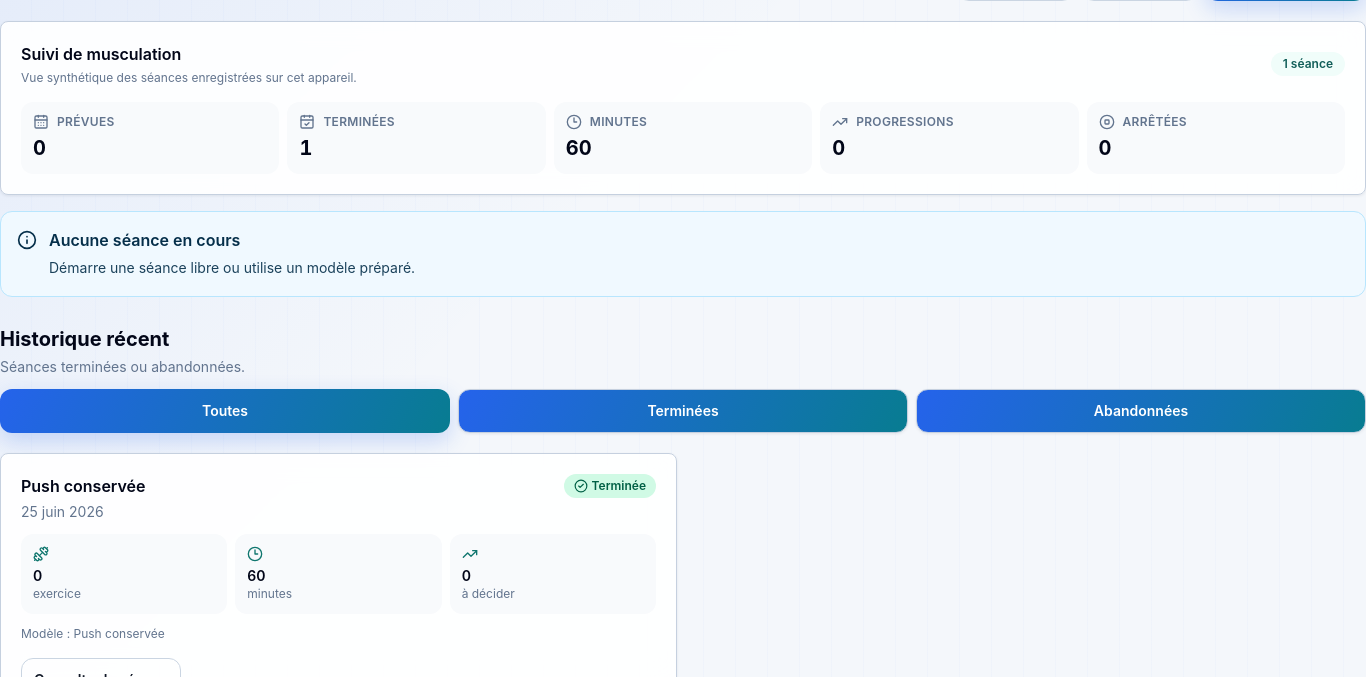
Scenario: WorkoutSessionsPage › réinitialise uniquement le filtre lorsque l’historique filtré est vide
Expected: the heading "Push conservée" is shown, [21,474,146,498]
Click the button "Abandonnées" at (1141, 411), box [916,389,1365,433]
(page scrolled)
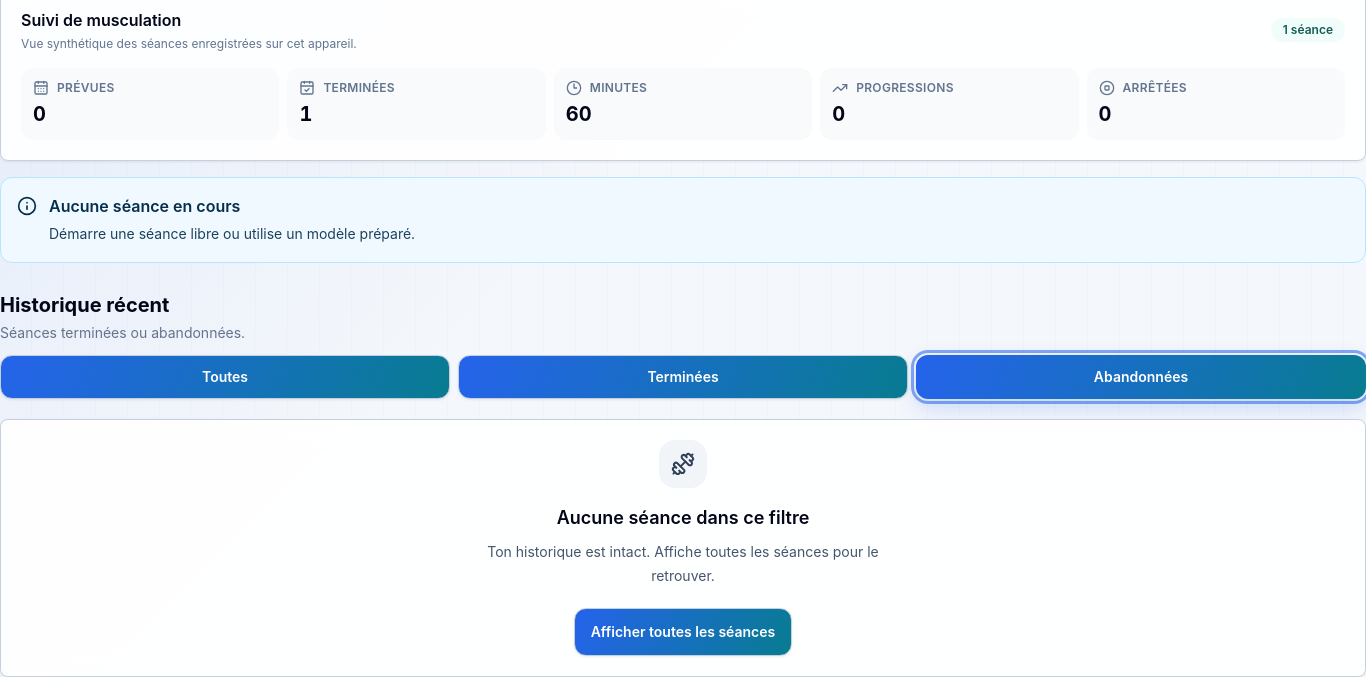
Expected: the element "Aucune séance dans ce filtre" has attribute data-empty-state-variant="filtered", [0,419,1365,676]
Click the button "Afficher toutes les séances" at (683, 632), box [574,608,792,656]
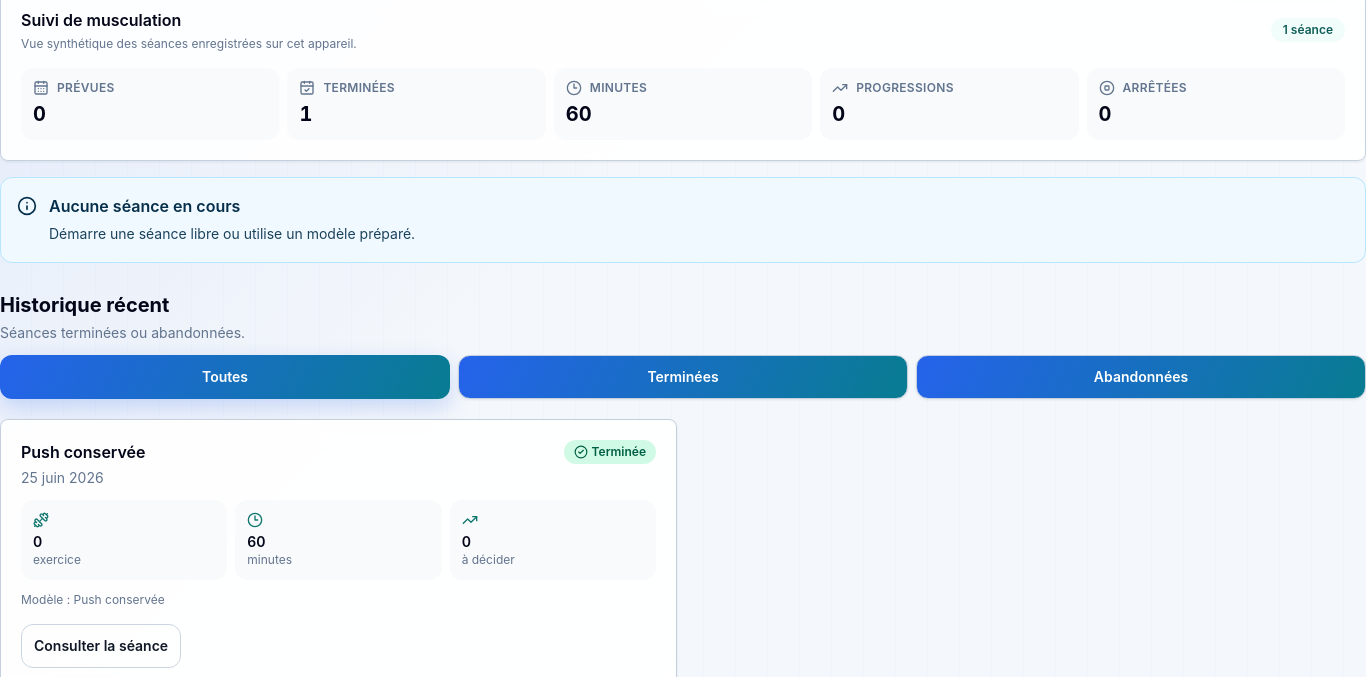
Expected: the heading "Push conservée" is shown, [21,440,146,464]
